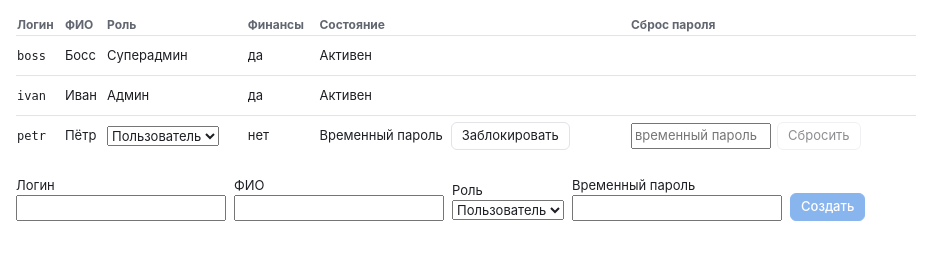
Test: отказ сервера показывается текстом
Click the button "Заблокировать". click: coordinates (510, 136)
box: x1=451 y1=122 x2=570 y2=150
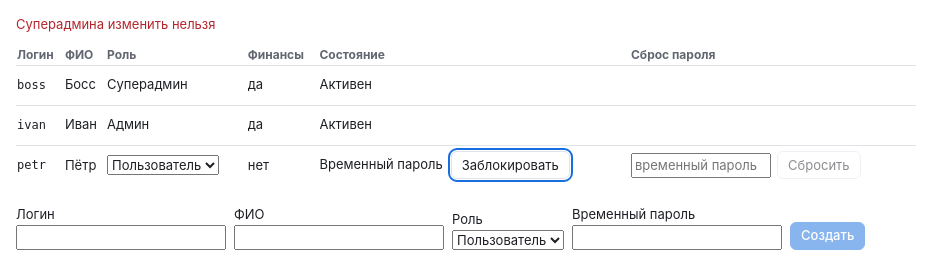
Expected: the message reads "Суперадмина изменить нельзя", x1=16 y1=16 x2=216 y2=32
